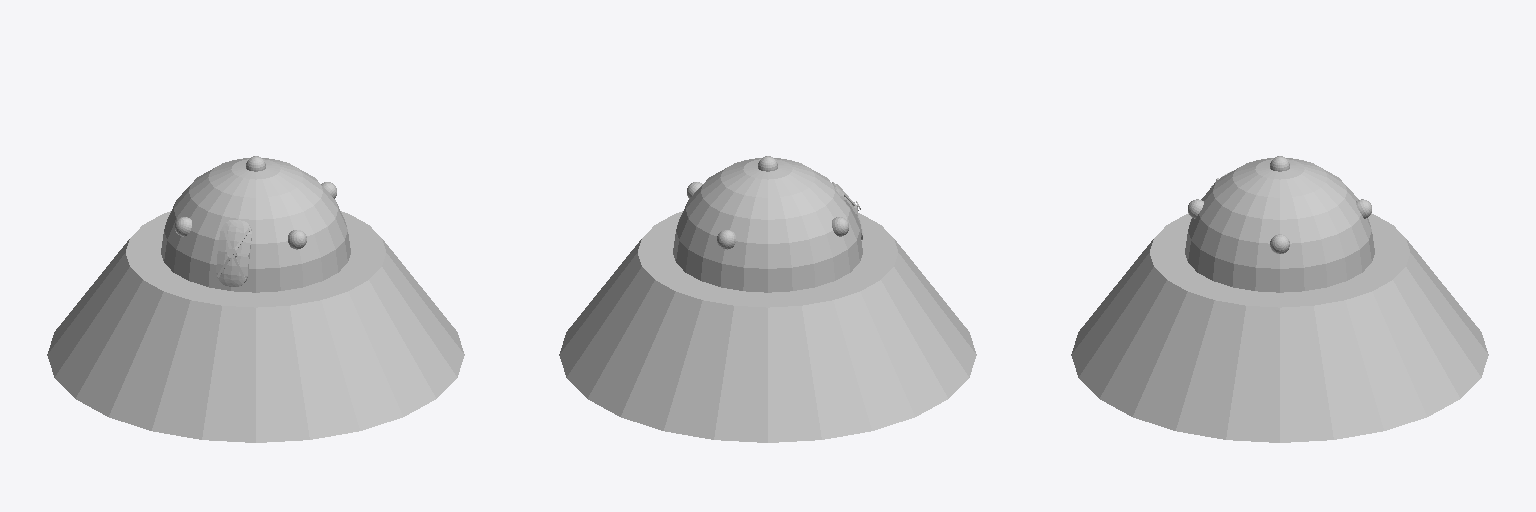
The model's file is craft.obj.
3 renders of one model, left to right at view 1: azimuth 30°, elevation 25°; view 2: azimuth 150°, elevation 25°; view 3: azimuth 270°, elevation 25°, orthographic.
Visible parts, largest first — view 1: ARV_lowpoly; view 2: ARV_lowpoly; view 3: ARV_lowpoly.
Part boxes in pixels (bbox=[...]): ARV_lowpoly: bbox=[47, 156, 464, 442]; ARV_lowpoly: bbox=[559, 156, 976, 442]; ARV_lowpoly: bbox=[1071, 156, 1488, 442].
Size of the model in its own units: 12.49 by 6.53 by 12.49.